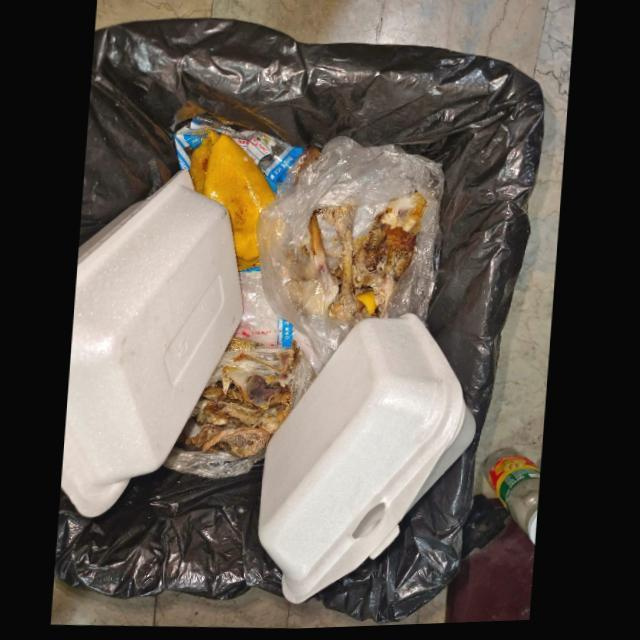biowaste: (309, 194, 429, 324), (176, 343, 301, 459), (189, 131, 276, 274)
glass: (485, 452, 543, 550)
plastic: (256, 138, 446, 363)
styrofoam: (258, 315, 479, 606), (62, 168, 245, 518)
